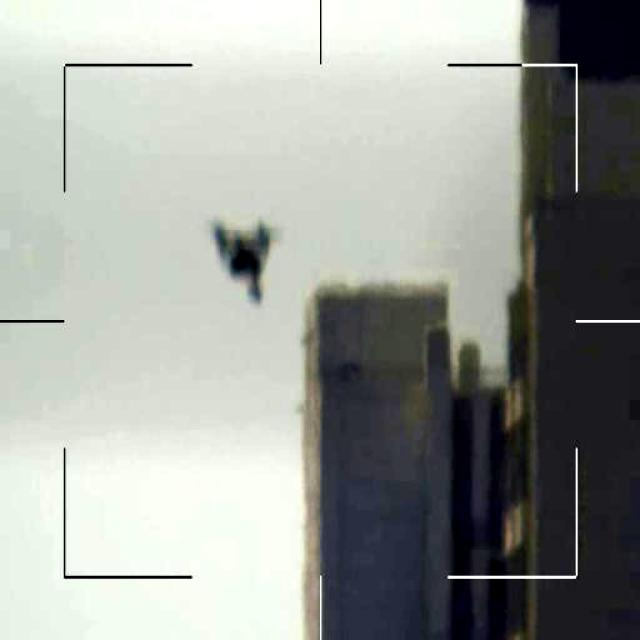bird: (204, 216, 284, 306)
